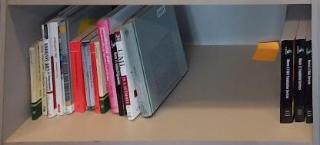book-spine: (122, 22, 153, 119), (96, 20, 123, 115), (115, 31, 133, 122), (109, 34, 126, 116), (59, 23, 72, 116), (51, 23, 64, 116), (42, 25, 55, 118), (280, 40, 293, 124), (70, 42, 84, 114), (294, 39, 306, 122), (94, 41, 105, 115), (90, 44, 101, 116), (80, 43, 91, 111), (38, 41, 47, 117), (85, 43, 95, 111), (305, 40, 313, 124), (30, 48, 37, 121)
